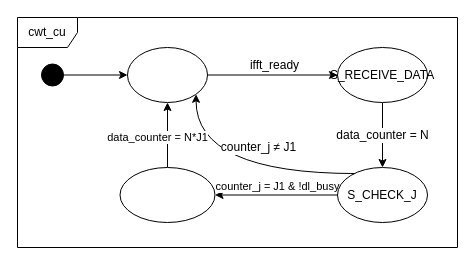
Some shapes in this 475 by 265 pixel diagram are drawn without their labels. The box of each missing label's shape, as (x1, y1, x2, y2) in pixels:
S_IDLE: (126, 46, 208, 102)
S_SEND_RESULTS: (119, 166, 215, 222)
